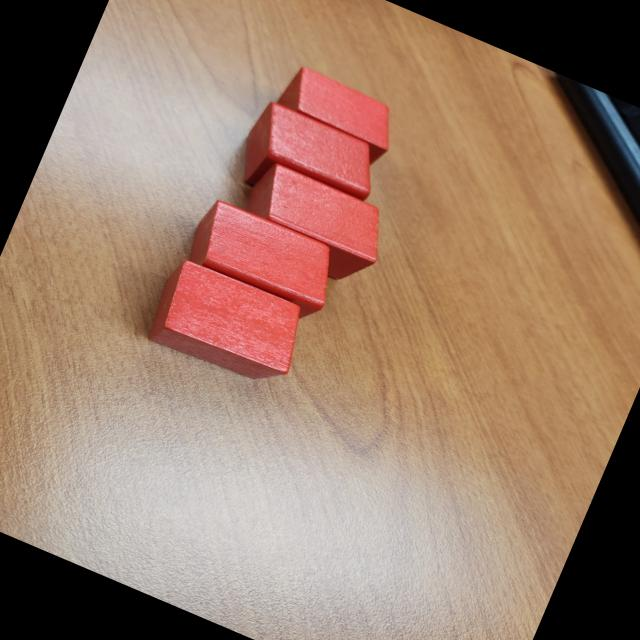red: (140, 252, 312, 394), (228, 156, 397, 293), (176, 194, 346, 330), (228, 97, 388, 230), (264, 60, 407, 172)
